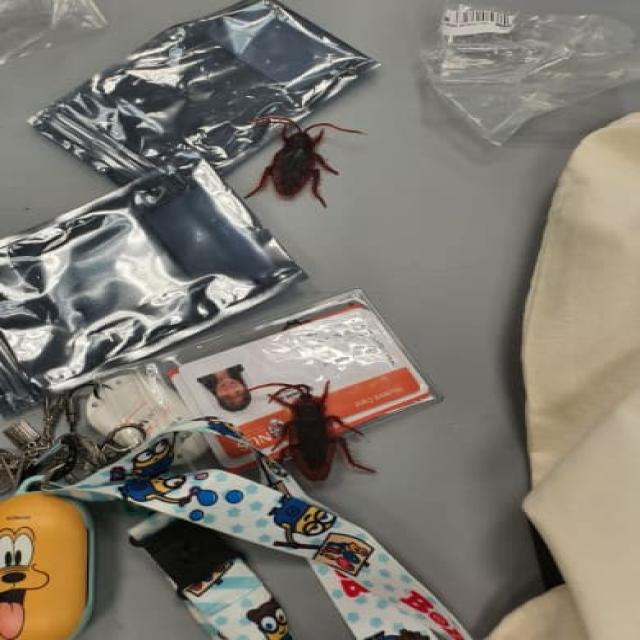Cockroach: (238, 379, 387, 492), (251, 107, 371, 207)
